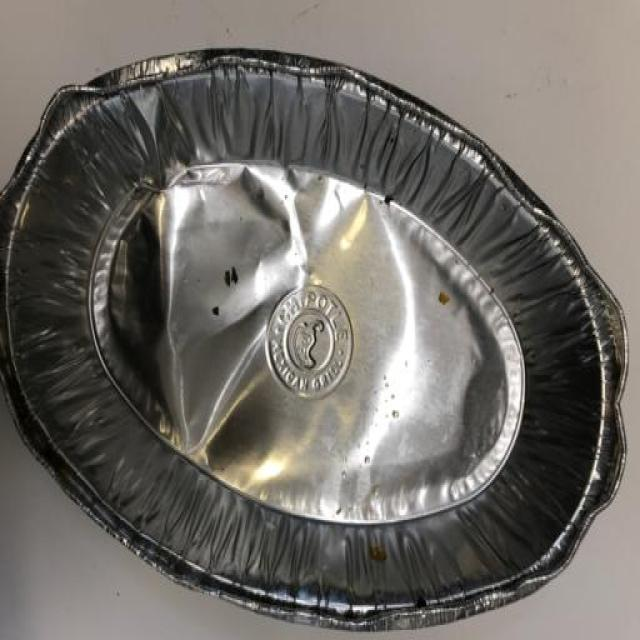Metal: (0, 47, 630, 637)
